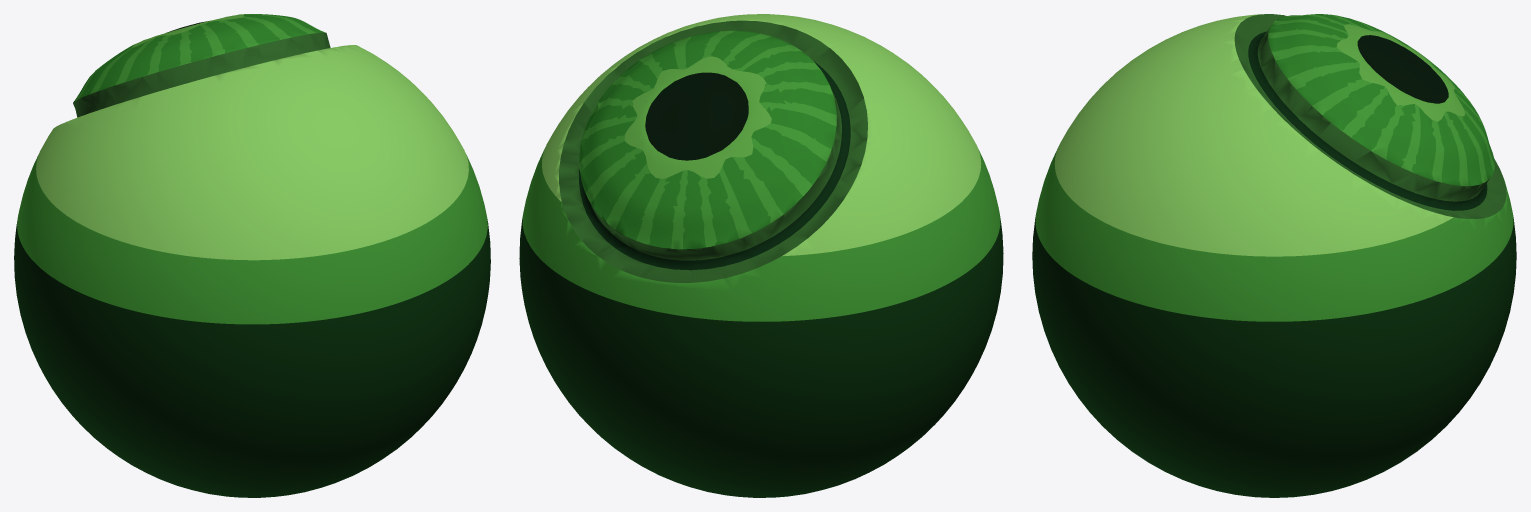
The model's file is green_eye.glb.
3 views of the same model, side by side, from view 1: azimuth 30°, elevation 25°; view 2: azimuth 150°, elevation 25°; view 3: azimuth 270°, elevation 25° (orthographic).
Visible parts, largest first — view 1: green_eye; view 2: green_eye; view 3: green_eye.
Boxes of the visible parts, x1,y1,x2,y2 form: green_eye: [14, 14, 490, 497]; green_eye: [519, 14, 1003, 497]; green_eye: [1032, 14, 1516, 497].
Bounding box in the file's own units: 20.9 × 21.13 × 20.9.
